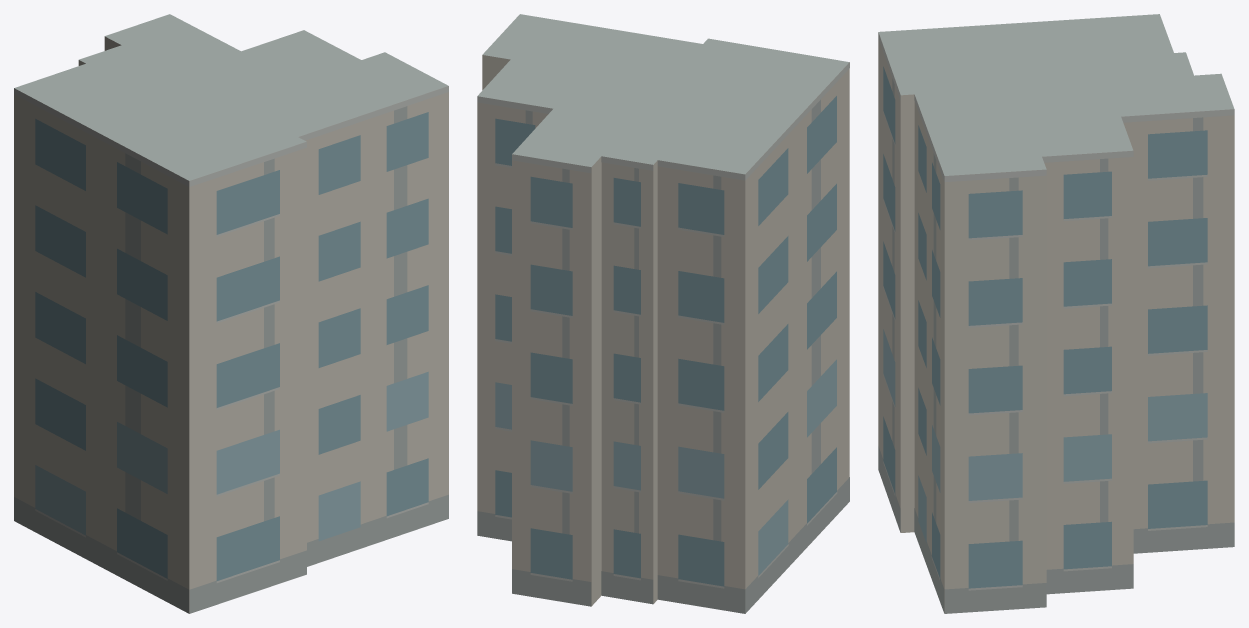
File: survey-upis-32750353.glb
3 renders of one model, left to right at view 1: azimuth 30°, elevation 25°; view 2: azimuth 150°, elevation 25°; view 3: azimuth 270°, elevation 25°, orthographic.
Parts seen in each view (by area): view 1: survey-upis-32750353.tmp; view 2: survey-upis-32750353.tmp; view 3: survey-upis-32750353.tmp.
Part boxes in pixels (left/top/right/bottom): survey-upis-32750353.tmp: left=14, top=14, right=448, bottom=613; survey-upis-32750353.tmp: left=477, top=14, right=849, bottom=613; survey-upis-32750353.tmp: left=878, top=14, right=1234, bottom=613.
Bounding box in the file's own units: 13.74 × 17.3 × 12.76.
